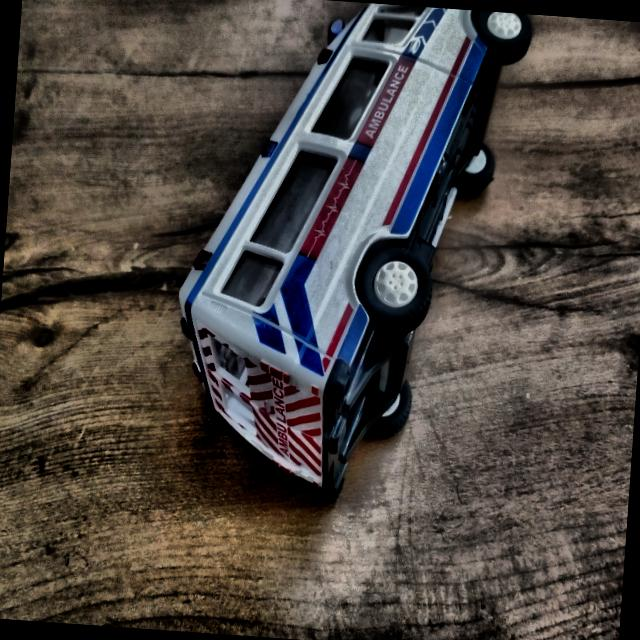Ambulance: (163, 0, 540, 519)
